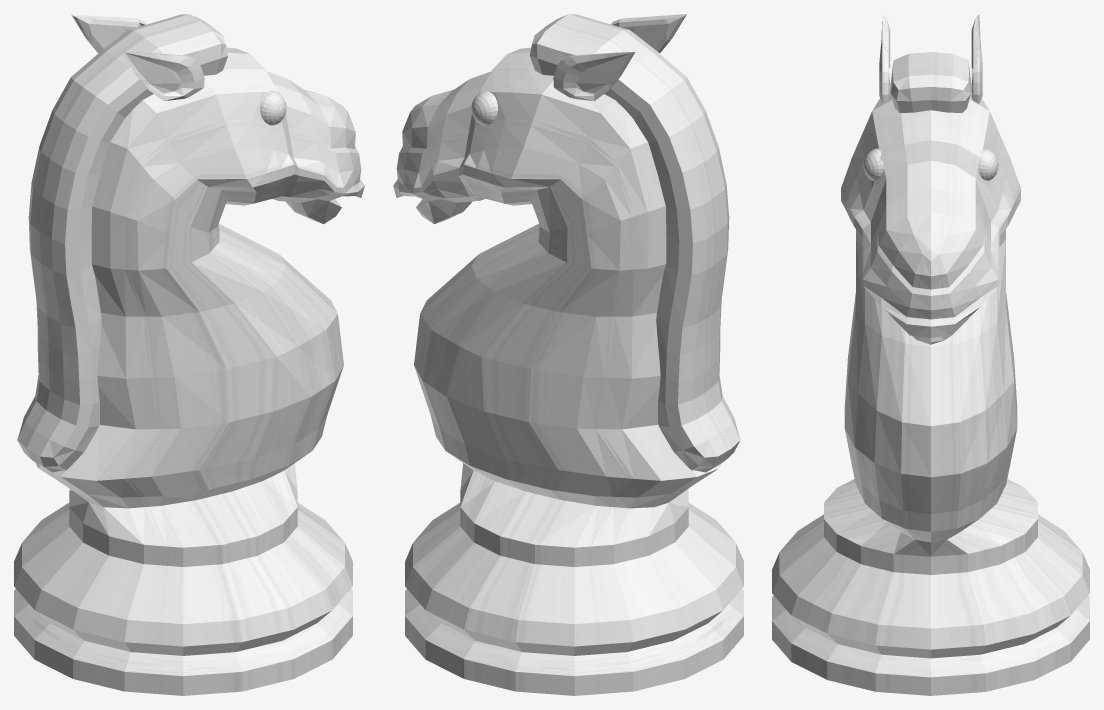
The model's file is w_knight_1.obj.
3 views of the same model, side by side, from view 1: azimuth 30°, elevation 25°; view 2: azimuth 150°, elevation 25°; view 3: azimuth 270°, elevation 25° (orthographic). The views are drawn at different scales.
Bounding box in the file's own units: 0.1605 × 0.2893 × 0.1422.
Materials: 1 (1 with a texture image).
